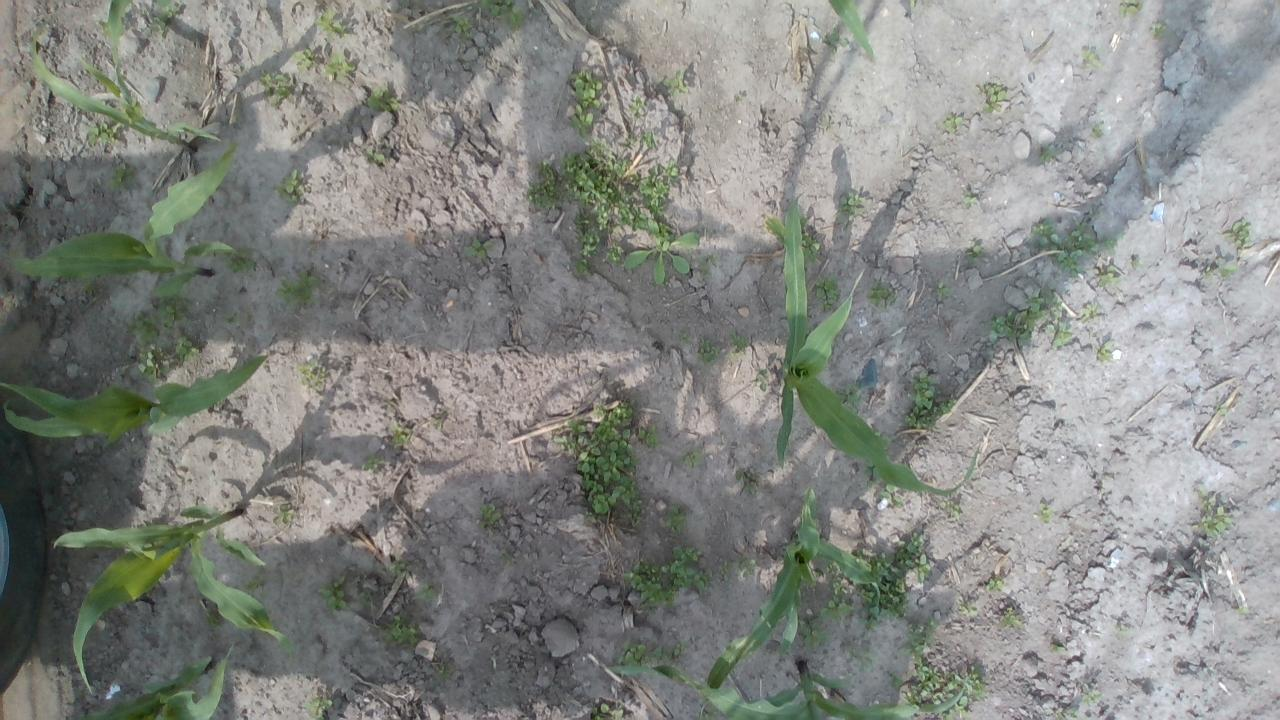Maize: (761, 193, 986, 496), (53, 500, 299, 696), (703, 483, 881, 688), (5, 147, 246, 296), (28, 16, 222, 152), (0, 354, 269, 448), (603, 657, 970, 720), (78, 645, 233, 720), (103, 0, 182, 100), (824, 0, 878, 60)
Weeds: (524, 138, 680, 278), (552, 398, 644, 526), (852, 530, 931, 629), (620, 542, 714, 614), (126, 294, 201, 384), (986, 282, 1074, 352), (891, 660, 988, 720), (623, 219, 699, 286), (1029, 218, 1099, 278), (900, 370, 958, 432), (1191, 485, 1234, 540), (820, 560, 856, 625), (272, 268, 324, 311), (618, 640, 688, 670), (258, 65, 299, 107), (896, 617, 938, 657), (472, 0, 525, 30), (834, 190, 868, 232), (569, 70, 604, 110), (714, 553, 761, 582), (1220, 217, 1254, 255), (148, 0, 182, 37), (316, 574, 349, 612), (314, 8, 352, 40), (384, 613, 422, 645), (797, 213, 820, 265), (794, 614, 829, 648), (86, 114, 123, 146), (274, 170, 306, 206), (476, 500, 505, 538), (296, 357, 329, 390), (812, 276, 842, 312), (324, 49, 355, 82), (106, 162, 138, 193), (225, 244, 257, 274), (976, 82, 1006, 113), (368, 86, 402, 113), (866, 280, 896, 310), (568, 105, 594, 138), (661, 68, 690, 96), (846, 645, 876, 672), (662, 505, 688, 536), (586, 701, 628, 720), (638, 420, 664, 450), (463, 236, 495, 260), (834, 382, 862, 409), (304, 694, 333, 720), (696, 251, 720, 282), (821, 27, 849, 52), (878, 483, 906, 508), (389, 422, 415, 448), (1044, 705, 1088, 720), (736, 468, 759, 496), (697, 338, 721, 364), (862, 460, 882, 491), (996, 606, 1022, 629), (730, 331, 750, 360), (1098, 266, 1122, 290), (414, 579, 438, 603), (1079, 49, 1104, 72), (1093, 338, 1116, 362), (292, 48, 314, 73), (242, 572, 267, 594), (451, 12, 472, 38), (680, 447, 704, 469), (1080, 682, 1102, 706), (361, 453, 386, 474), (204, 602, 224, 628), (627, 94, 648, 118), (964, 240, 986, 262), (1216, 258, 1238, 280), (939, 113, 962, 134), (1036, 144, 1060, 164), (362, 148, 388, 166), (1118, 0, 1144, 18), (274, 503, 296, 524), (388, 556, 409, 578), (940, 499, 962, 520), (872, 429, 892, 450), (1148, 22, 1170, 41), (1080, 302, 1098, 324), (754, 368, 769, 393), (1103, 234, 1120, 256), (1038, 502, 1054, 524), (696, 707, 722, 720), (1112, 622, 1130, 640), (358, 590, 377, 607), (640, 132, 660, 148), (985, 577, 1006, 592), (935, 281, 953, 298), (499, 550, 518, 566), (958, 602, 978, 616), (963, 190, 978, 208), (434, 663, 451, 678), (224, 310, 241, 324), (98, 18, 110, 37), (676, 330, 692, 344), (1214, 402, 1230, 416), (1090, 122, 1104, 138), (1203, 264, 1214, 282), (1049, 643, 1066, 653), (1130, 257, 1140, 270), (1234, 606, 1248, 614), (824, 118, 832, 130), (734, 93, 744, 102), (908, 0, 916, 9)
